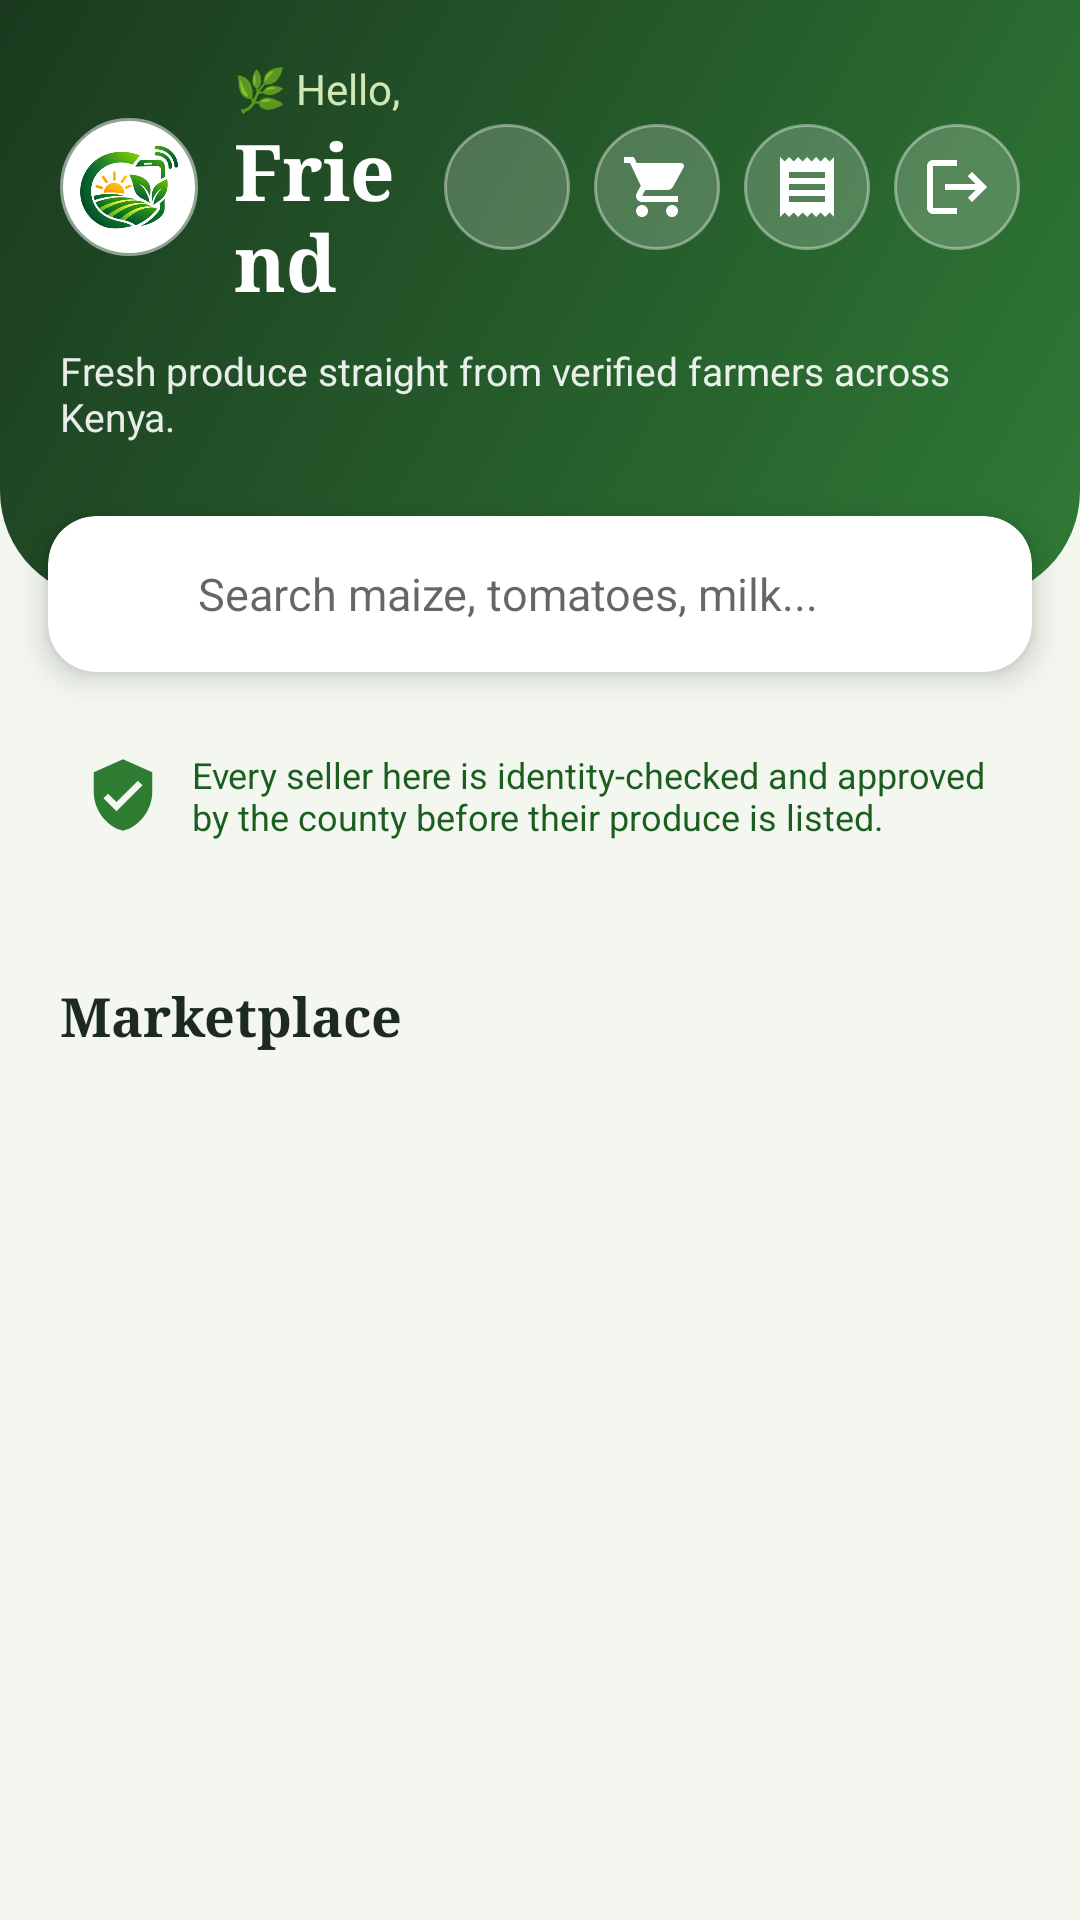

Screen size 1080w x 1920h. Icon name, then its box in pixels as (x1, y1, x2, y2):
Cart: (594, 124, 720, 250)
My orders: (744, 124, 870, 250)
Verified: (93, 759, 153, 831)
